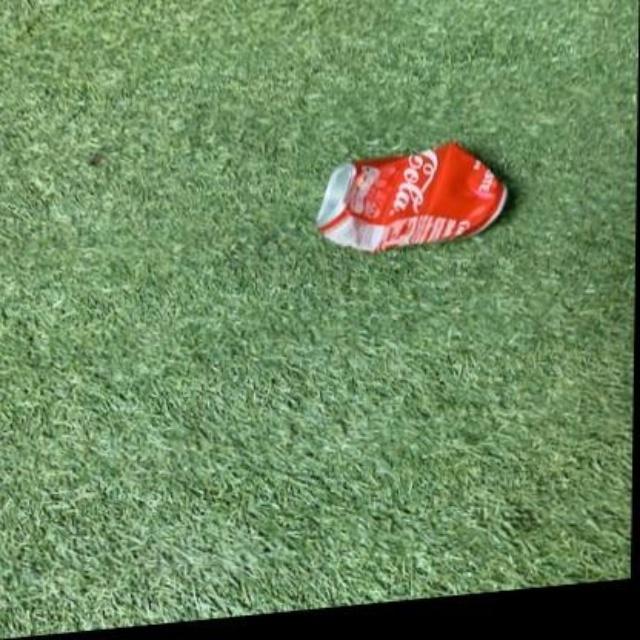trash: (317, 143, 506, 251)
